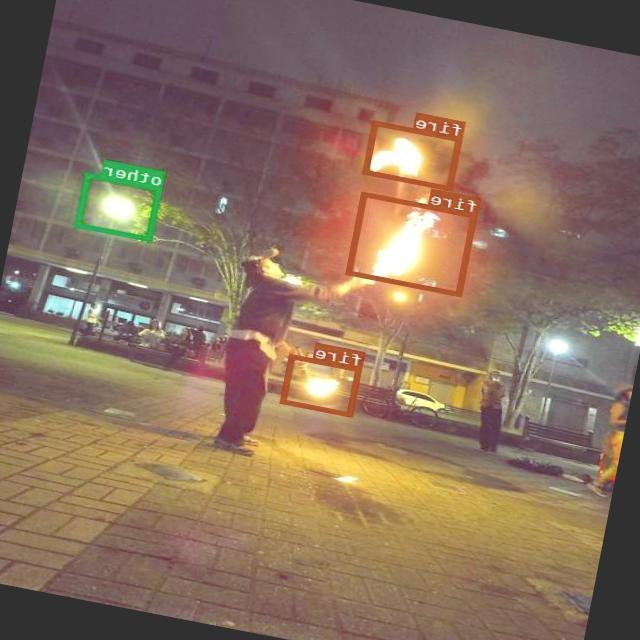fire: (348, 192, 478, 296), (364, 120, 463, 191), (281, 354, 363, 417)
